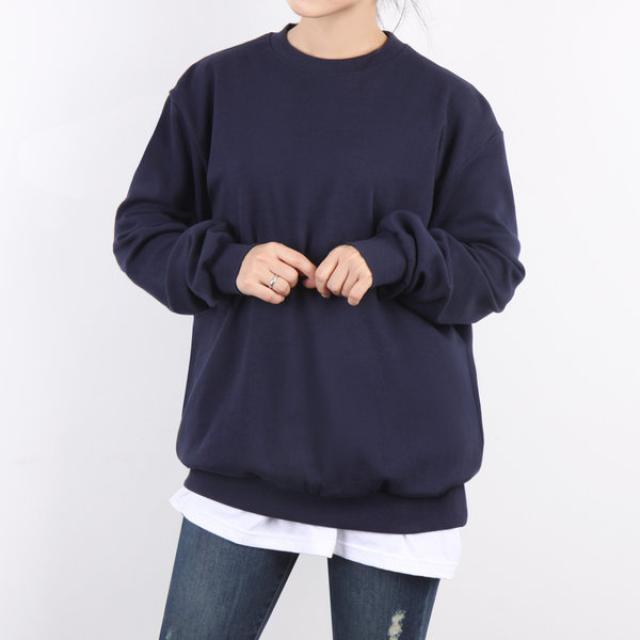Standing: (114, 0, 530, 640)
